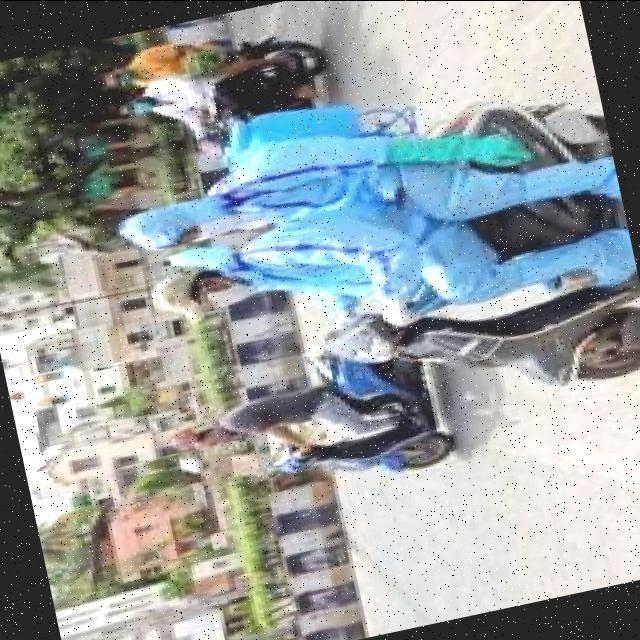apron: (372, 124, 534, 166), (370, 300, 416, 334)
gloves: (104, 210, 192, 252)
mask: (186, 228, 220, 256), (208, 292, 238, 310)
no_gloves: (142, 276, 188, 322)
